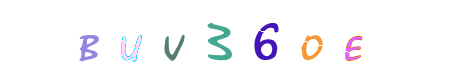3: (192, 0, 272, 80)
6: (225, 0, 305, 80)
B: (90, 0, 170, 80)
E: (312, 0, 392, 80)
O: (281, 0, 361, 80)
U: (95, 0, 175, 80)
V: (165, 0, 245, 80)
